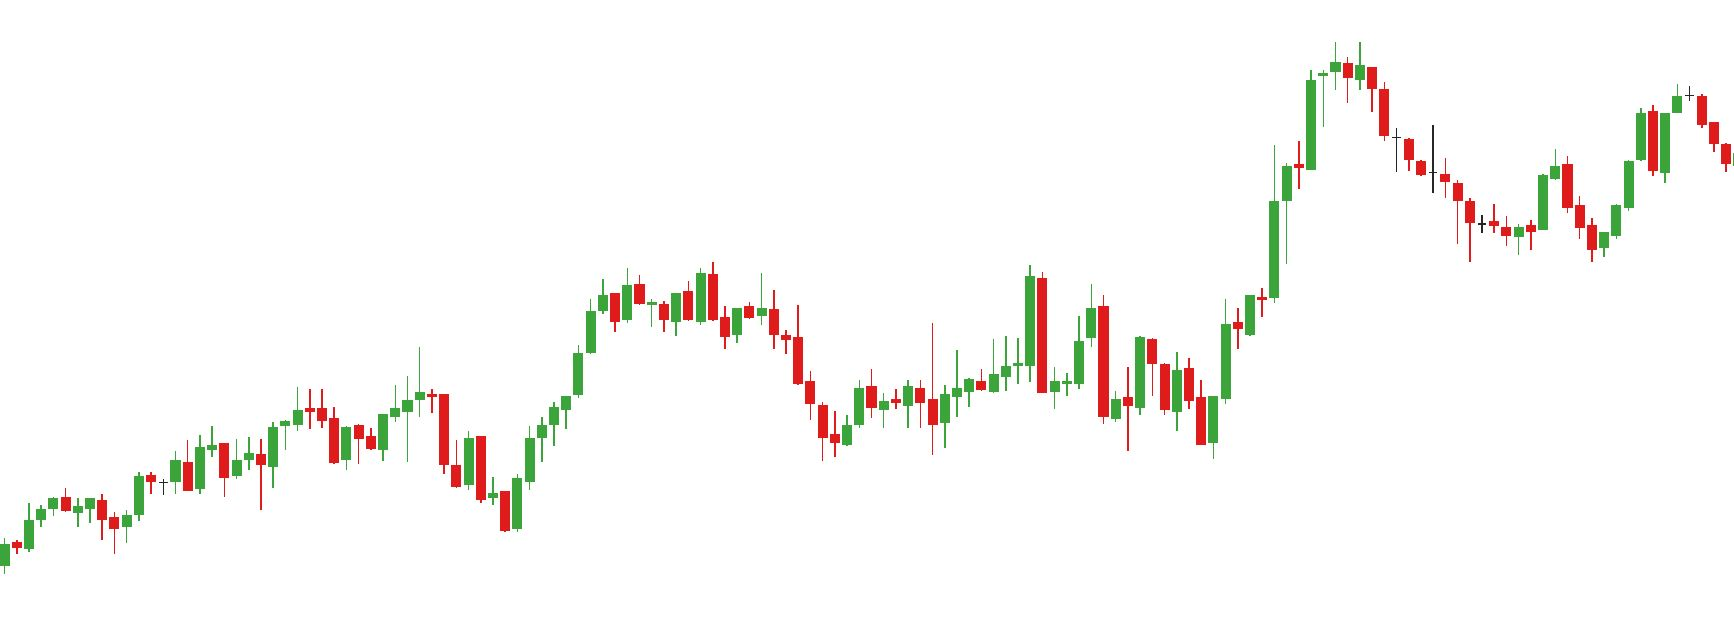buy: (1121, 371, 1220, 461), (1515, 198, 1610, 260)
